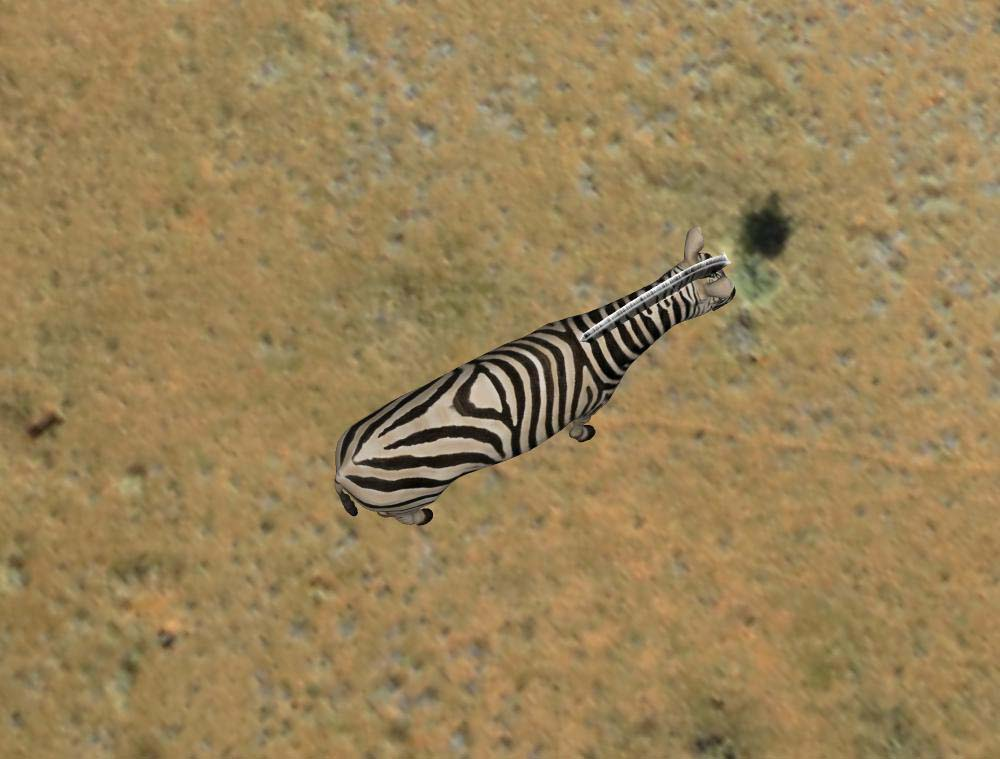zebra: (336, 216, 740, 535)
